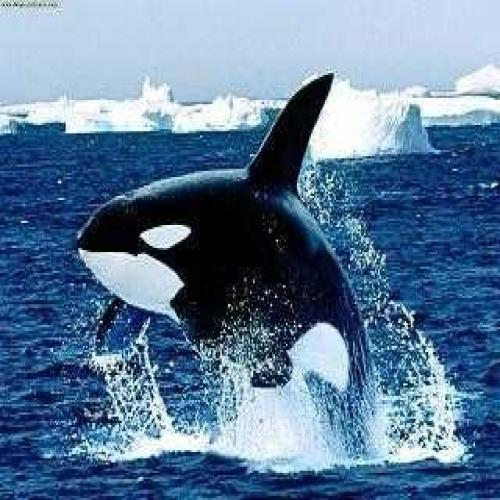killer_whale-endangered: (57, 50, 404, 459)
